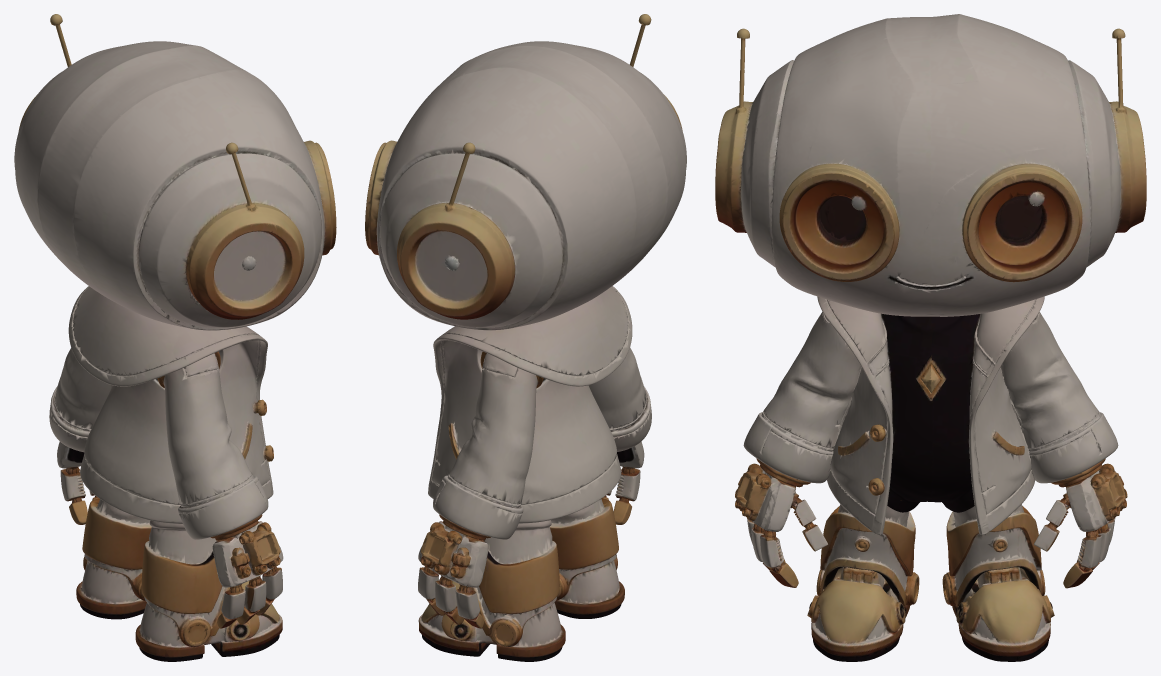
File: mooni.glb
3 views of the same model, side by side, from view 1: azimuth 30°, elevation 25°; view 2: azimuth 150°, elevation 25°; view 3: azimuth 270°, elevation 25° (orthographic). The views are drawn at different scales.
Visible parts, largest first — view 1: tripo_node_dcab8152-2de0-4727-ba7d-3c9de7d4dbc3; view 2: tripo_node_dcab8152-2de0-4727-ba7d-3c9de7d4dbc3; view 3: tripo_node_dcab8152-2de0-4727-ba7d-3c9de7d4dbc3.
Boxes of the visible parts, x1,y1,x2,y2 form: tripo_node_dcab8152-2de0-4727-ba7d-3c9de7d4dbc3: (14, 14, 336, 661); tripo_node_dcab8152-2de0-4727-ba7d-3c9de7d4dbc3: (365, 14, 686, 661); tripo_node_dcab8152-2de0-4727-ba7d-3c9de7d4dbc3: (715, 14, 1146, 661).
Size of the model in its own units: 0.4442 by 0.98 by 0.6414.
Materials: 1 (1 with a texture image).
